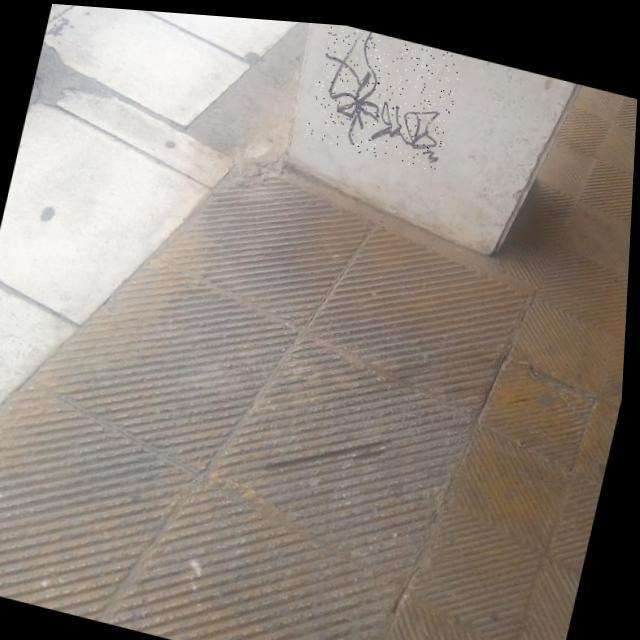-: (303, 18, 465, 167)
